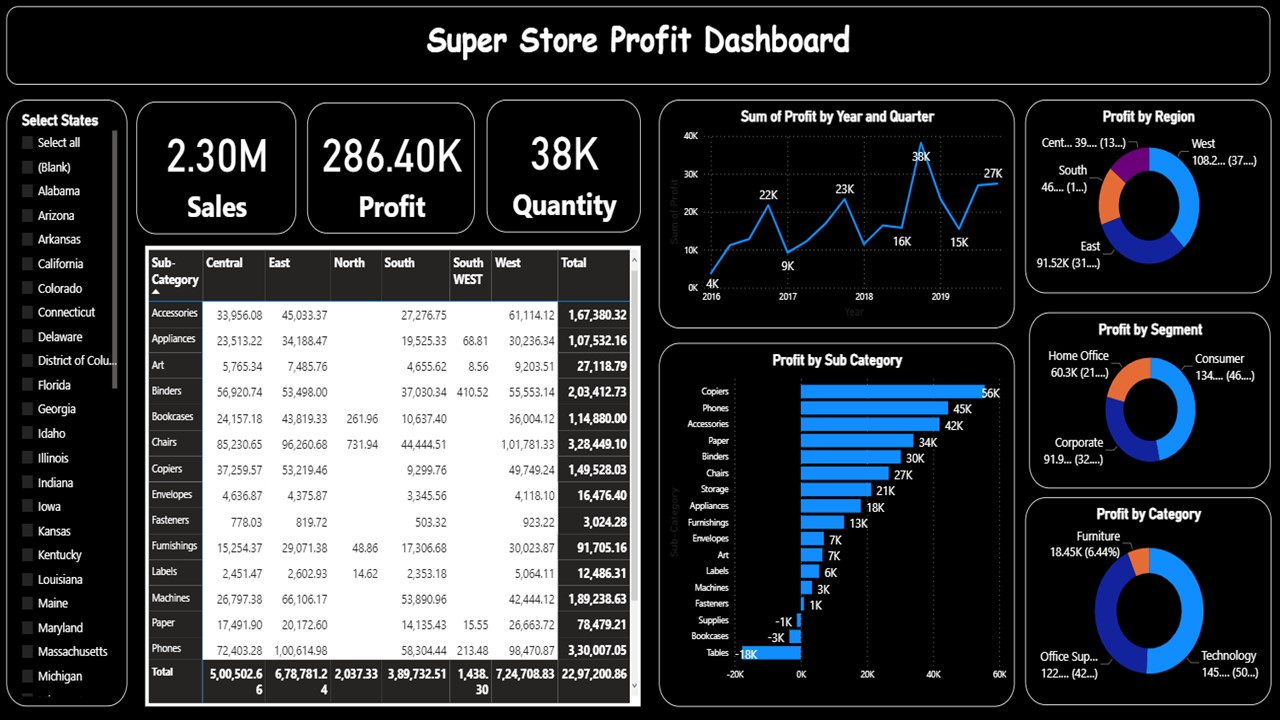

The dashboard page shown, as its layout file describes it:
{"tool":"powerbi","page":{"name":"SuperStore Report","canvas":[1900,920],"ordinal":0},"visuals":[{"type":"textbox","box":[10.4,12.1,1872.4,100.2],"z":0},{"type":"donutChart","title":"Profit by Category","fields":{"Y":["Sum(Orders.Profit)"],"Category":["Orders.Category"]},"box":[1520,639.1,364.5,266],"z":1000},{"type":"donutChart","title":"Profit by Segment","fields":{"Y":["Sum(Orders.Profit)"],"Category":["Orders.Segment"]},"box":[1525.2,402.5,357.5,224.5],"z":2000},{"type":"donutChart","title":"Profit by Region","fields":{"Y":["Sum(Orders.Profit)"],"Category":["Orders.Region"]},"box":[1520,131.3,364.5,247],"z":3000},{"type":"barChart","title":"Profit by Sub Category","fields":{"Category":["Orders.Sub-Category"],"Y":["Sum(Orders.Profit)"]},"box":[977.6,442.2,526.8,464.6],"z":4000},{"type":"lineChart","fields":{"Category":["Orders.Order Date.Variation.Date Hierarchy.Year","Orders.Order Date.Variation.Date Hierarchy.Quarter"],"Y":["Sum(Orders.Profit)"]},"box":[977.6,131.3,526.8,291.9],"z":5000},{"type":"slicer","fields":{"Values":["Orders.State"]},"box":[10.4,131.3,179.6,775.5],"z":6000},{"type":"pivotTable","fields":{"Rows":["Orders.Sub-Category"],"Columns":["Orders.Region"],"Values":["Sum(Orders.Sales)"]},"box":[215.9,317.8,734.1,589],"z":7000},{"type":"card","title":"Sales","fields":{"Values":["Sum(Orders.Sales)"]},"box":[203.8,133,236.6,169.3],"z":8000},{"type":"card","title":"Sales","fields":{"Values":["Sum(Orders.Profit)"]},"box":[456,134.7,248.7,167.5],"z":9000},{"type":"card","title":"Sales","fields":{"Values":["Sum(Orders.Quantity)"]},"box":[722,131.3,228,169.3],"z":10000}]}

Visuals, with their boxes on the page's 1900x920 design canvas (x1, y1, x2, y2). These are canvas units, not pixel positions in the 1280x720 screenshot, which may show the page scaled, cropped or inside an application window:
textbox: left=10, top=12, right=1883, bottom=112
"Profit by Category" donutChart: left=1520, top=639, right=1884, bottom=905
"Profit by Segment" donutChart: left=1525, top=402, right=1883, bottom=627
"Profit by Region" donutChart: left=1520, top=131, right=1884, bottom=378
"Profit by Sub Category" barChart: left=978, top=442, right=1504, bottom=907
lineChart - Orders.Order Date.Variation.Date Hierarchy.Year x Orders.Order Date.Variation.Date Hierarchy.Quarter: left=978, top=131, right=1504, bottom=423
slicer - Orders.State: left=10, top=131, right=190, bottom=907
pivotTable - Orders.Sub-Category x Orders.Region: left=216, top=318, right=950, bottom=907
"Sales" card: left=204, top=133, right=440, bottom=302
"Sales" card: left=456, top=135, right=705, bottom=302
"Sales" card: left=722, top=131, right=950, bottom=301
